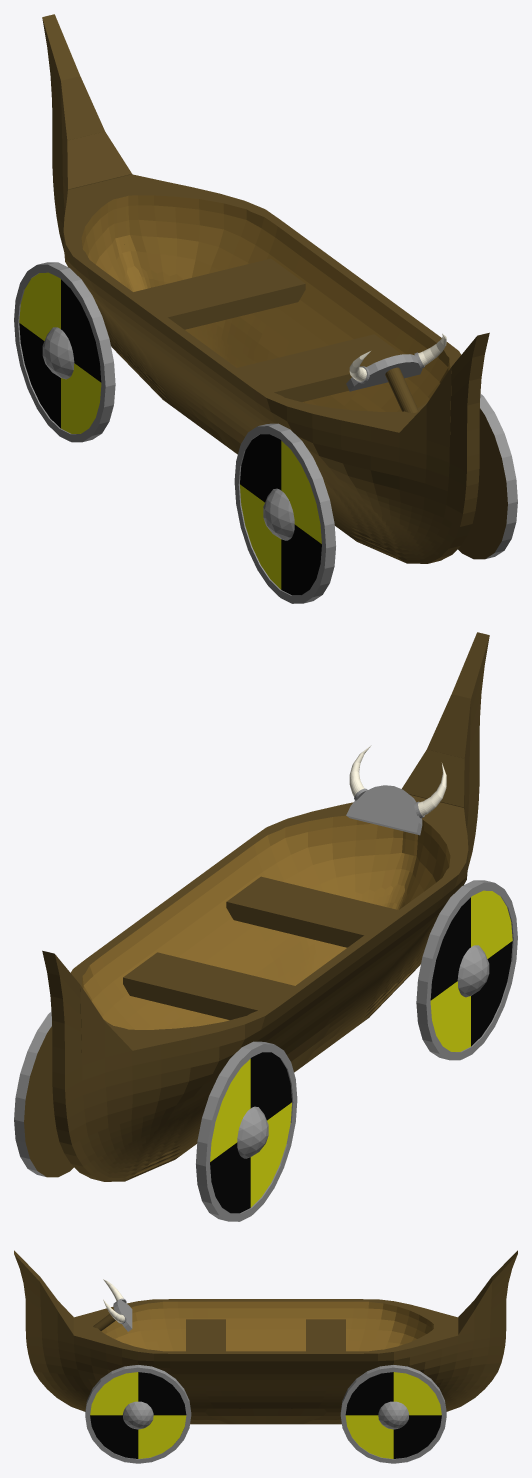
File: Boat-Cart.glb
3 renders of one model, top to bottom at view 1: azimuth 30°, elevation 25°; view 2: azimuth 150°, elevation 25°; view 3: azimuth 270°, elevation 25°, orthographic. The views are drawn at different scales.
Parts seen in each view (by area): view 1: Hull, Wheel, Seat, Steerin weheel; view 2: Hull, Wheel, Seat, Steerin weheel; view 3: Hull, Wheel, Seat, Steerin weheel.
Boxes of the visible parts, x1=… form: Hull: x1=42, y1=14, x2=489, y2=563; Wheel: x1=14, y1=262, x2=517, y2=603; Seat: x1=133, y1=258, x2=401, y2=401; Steerin weheel: x1=346, y1=333, x2=446, y2=412; Hull: x1=42, y1=632, x2=489, y2=1181; Wheel: x1=14, y1=880, x2=517, y2=1221; Seat: x1=123, y1=876, x2=398, y2=1019; Steerin weheel: x1=346, y1=745, x2=446, y2=835; Hull: x1=14, y1=1250, x2=517, y2=1424; Wheel: x1=85, y1=1365, x2=446, y2=1463; Seat: x1=186, y1=1319, x2=345, y2=1351; Steerin weheel: x1=93, y1=1279, x2=132, y2=1331.
Bounding box in the file's own units: 2.26 × 3.13 × 7.74.
1 material, 1 textured.
